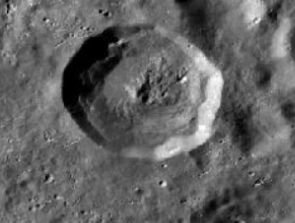crater: (24, 14, 258, 186)
